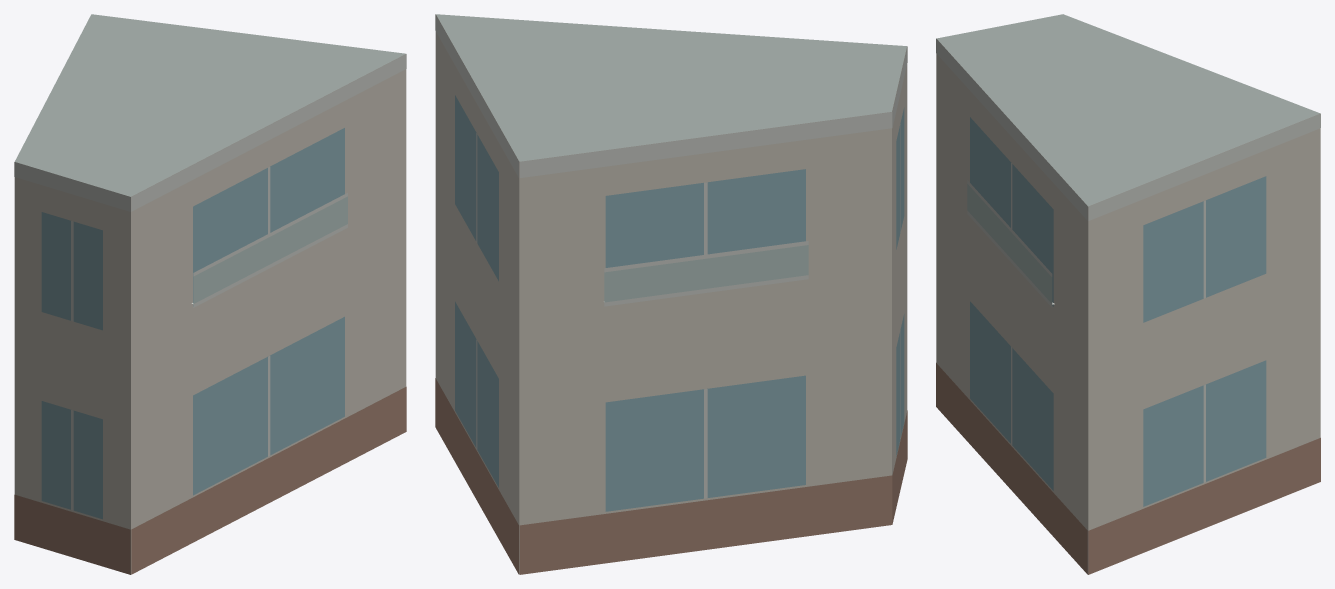
The model's file is survey-upis-32549025.glb.
3 renders of one model, left to right at view 1: azimuth 30°, elevation 25°; view 2: azimuth 150°, elevation 25°; view 3: azimuth 270°, elevation 25°, orthographic. The views are drawn at different scales.
Parts seen in each view (by area): view 1: survey-upis-32549025.tmp; view 2: survey-upis-32549025.tmp; view 3: survey-upis-32549025.tmp.
Boxes of the visible parts, x1=… form: survey-upis-32549025.tmp: x1=14, y1=14, x2=406, y2=574; survey-upis-32549025.tmp: x1=435, y1=14, x2=907, y2=574; survey-upis-32549025.tmp: x1=936, y1=14, x2=1320, y2=574.
Size of the model in its own units: 6.85 by 6.1 by 5.78.
